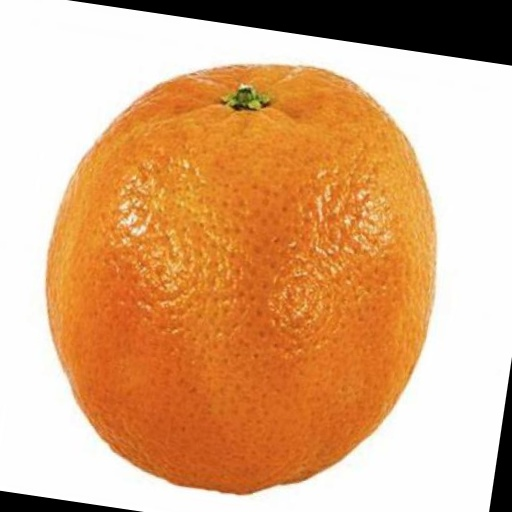fruit: (47, 66, 435, 493)
